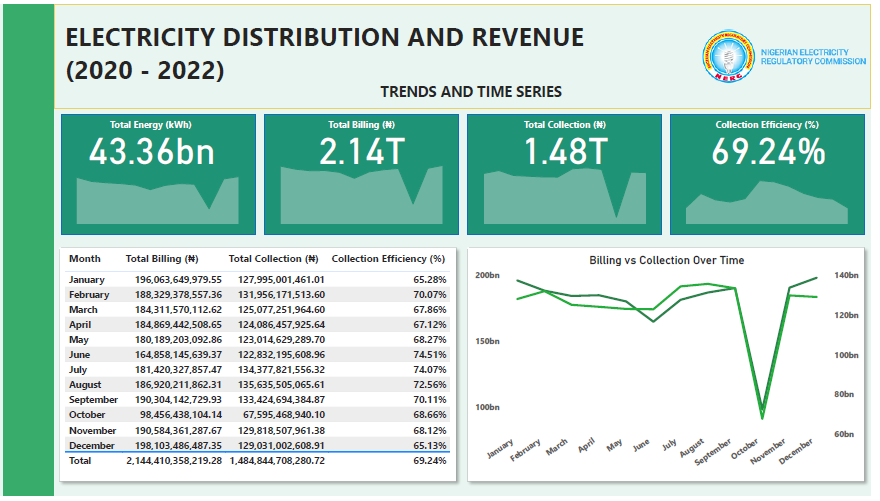

Layout of this report page (visuals, bound fields, positions):
{"tool":"powerbi","page":{"name":"Trends & Time Series","canvas":[1280,720],"ordinal":3},"visuals":[{"type":"shape","box":[82.7,0,1197.7,152.7],"z":0},{"type":"shape","box":[986.2,162.2,284.7,175],"z":1000},{"type":"shape","box":[688.7,162.2,284.7,175],"z":2000},{"type":"shape","box":[391.3,162.2,284.7,175],"z":3000},{"type":"shape","box":[93.8,162.2,284.7,175],"z":4000},{"type":"shape","box":[9.4,0,73.7,720],"z":5000},{"type":"card","fields":{"Values":["Merged_table.Total Energy (kWh)"]},"box":[114.5,165.4,222.7,85.9],"z":6000},{"type":"image","box":[1027.5,0,249.7,152.7],"z":7000},{"type":"shape","box":[82.7,132,1197.7,39.8],"z":8000},{"type":"areaChart","fields":{"Category":["Merged_table.date.Variation.Date Hierarchy.Month"],"Y":["Sum(Merged_table.energy_kwh)"]},"box":[103.4,221.1,264,105],"z":9000},{"type":"textbox","box":[151.1,162.2,147.9,28.6],"z":10000},{"type":"textbox","box":[448.6,162.2,170.2,28.6],"z":11000},{"type":"textbox","box":[739.6,162.2,184.5,28.6],"z":12000},{"type":"textbox","box":[1030.7,162.2,195.6,28.6],"z":13000},{"type":"card","fields":{"Values":["Sum(Merged_table.billing.billing_naira)"]},"box":[423.1,165.4,222.7,85.9],"z":14000},{"type":"card","fields":{"Values":["Sum(Merged_table.collection.collection_naira)"]},"box":[720.5,165.4,222.7,85.9],"z":15000},{"type":"card","fields":{"Values":["Merged_table.Collection Efficiency (%)"]},"box":[1018,165.4,222.7,85.9],"z":16000},{"type":"areaChart","fields":{"Category":["Merged_table.date.Variation.Date Hierarchy.Month"],"Y":["Sum(Merged_table.collection.collection_naira)"]},"box":[699.9,221.1,264,105],"z":17000},{"type":"areaChart","fields":{"Category":["Merged_table.date.Variation.Date Hierarchy.Month"],"Y":["Sum(Merged_table.billing.billing_naira)"]},"box":[402.4,221.1,264,105],"z":18000},{"type":"areaChart","fields":{"Category":["Merged_table.date.Variation.Date Hierarchy.Month"],"Y":["Merged_table.Collection Efficiency (%)"]},"box":[995.7,221.1,264,105],"z":19000},{"type":"shape","box":[82.7,348.3,599.7,361.1],"z":20000},{"type":"shape","box":[680.8,348.3,599.7,361.1],"z":21000},{"type":"textbox","box":[93.8,15.9,830.3,116.1],"z":22000},{"type":"textbox","box":[509,108.2,370.6,39.8],"z":23000},{"type":"lineChart","title":"Billing vs Collection Over Time","fields":{"Y":["Sum(Merged_table.billing.billing_naira)"],"Y2":["Sum(Merged_table.collection.collection_naira)"],"Category":["Merged_table.date.Variation.Date Hierarchy.Month"]},"box":[695.1,364.2,572.6,334],"z":24000},{"type":"tableEx","title":"Billing vs Collection Over Time","fields":{"Values":["Merged_table.date.Variation.Date Hierarchy.Month","Sum(Merged_table.billing.billing_naira)","Sum(Merged_table.collection.collection_naira)","Merged_table.Collection Efficiency (%)"]},"box":[93.8,356.3,579,346.8],"z":25000}]}

Visuals, with their boxes in screenshot pixels (x1, y1, x2, y2), scaled from the page's 1280x720 canvas onto the 880x501 screenshot:
shape: box=[57, 0, 879, 106]
shape: box=[678, 113, 874, 235]
shape: box=[473, 113, 669, 235]
shape: box=[269, 113, 465, 235]
shape: box=[64, 113, 260, 235]
shape: box=[6, 0, 57, 500]
card - Merged_table.Total Energy (kWh): box=[79, 115, 232, 175]
image: box=[706, 0, 878, 106]
shape: box=[57, 92, 879, 120]
areaChart - Merged_table.date.Variation.Date Hierarchy.Month x Sum(Merged_table.energy_kwh): box=[71, 154, 253, 227]
textbox: box=[104, 113, 206, 133]
textbox: box=[308, 113, 425, 133]
textbox: box=[508, 113, 635, 133]
textbox: box=[709, 113, 843, 133]
card - Sum(Merged_table.billing.billing_naira): box=[291, 115, 444, 175]
card - Sum(Merged_table.collection.collection_naira): box=[495, 115, 648, 175]
card - Merged_table.Collection Efficiency (%): box=[700, 115, 853, 175]
areaChart - Merged_table.date.Variation.Date Hierarchy.Month x Sum(Merged_table.collection.collection_naira): box=[481, 154, 663, 227]
areaChart - Merged_table.date.Variation.Date Hierarchy.Month x Sum(Merged_table.billing.billing_naira): box=[277, 154, 458, 227]
areaChart - Merged_table.date.Variation.Date Hierarchy.Month x Merged_table.Collection Efficiency (%): box=[685, 154, 866, 227]
shape: box=[57, 242, 469, 494]
shape: box=[468, 242, 879, 494]
textbox: box=[64, 11, 635, 92]
textbox: box=[350, 75, 605, 103]
"Billing vs Collection Over Time" lineChart: box=[478, 253, 872, 486]
"Billing vs Collection Over Time" tableEx: box=[64, 248, 463, 489]
